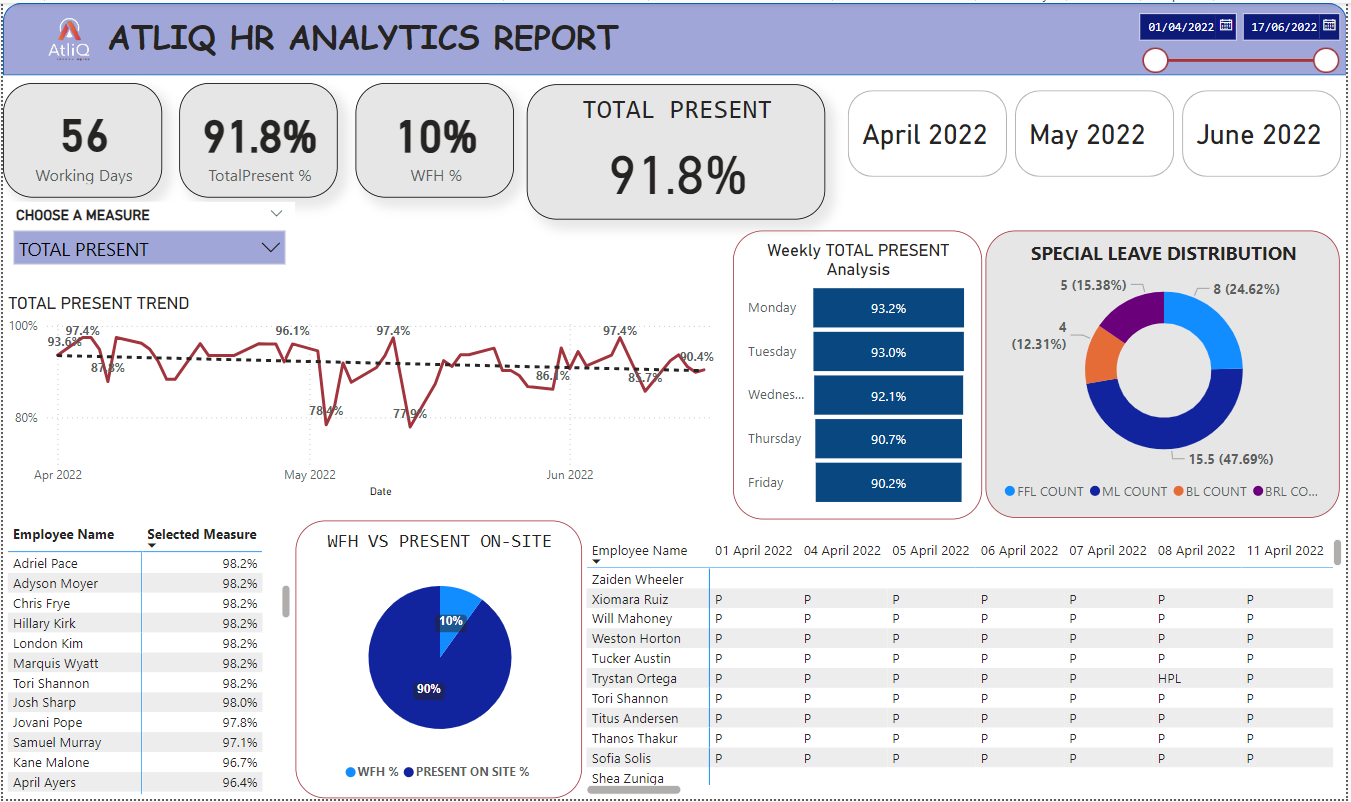

What the dashboard file says about the page in this screenshot:
{"tool":"powerbi","page":{"name":"Page 1","canvas":[1350,800],"ordinal":0},"visuals":[{"type":"card","fields":{"Values":["Final Data.Present %"]},"box":[177.1,80.9,159.5,115.6],"z":0},{"type":"advancedSlicerVisual","fields":{"Values":["Final Data.MONTH"]},"box":[844.2,82.9,506.3,98],"z":1000},{"type":"pivotTable","fields":{"Rows":["Final Data.Employee Name"],"Values":["Final Data.SelectedItem"]},"box":[0,517.6,294,282.7],"z":2000},{"type":"card","fields":{"Values":["Final Data.Working Days"]},"box":[0,80.9,160,115],"z":3000},{"type":"donutChart","title":"SPECIAL LEAVE DISTRIBUTION","fields":{"Y":["Final Data.FFL COUNT","Final Data.ML COUNT","Final Data.BL COUNT","Final Data.BRL COUNT"]},"box":[987.3,229.1,356.4,289.1],"z":4000},{"type":"pivotTable","fields":{"Rows":["Final Data.Employee Name"],"Values":["Final Data.Value"],"Columns":["Final Data.Date"]},"box":[581.7,533.9,768.8,266.3],"z":5000},{"type":"card","fields":{"Values":["Final Data.WFH %"]},"box":[354.3,80.9,159.5,115.6],"z":6000},{"type":"pieChart","title":"WFH VS PRESENT ON-SITE","fields":{"Y":["Final Data.WFH %","Final Data.PRESENT ON SITE %"]},"box":[293.8,519.6,288,279.3],"z":7000},{"type":"shape","box":[0,0,1350.5,72.9],"z":7500},{"type":"slicer","fields":{"Values":["Independent Table.Measures"]},"box":[0,199.7,294,71.6],"z":8000},{"type":"lineChart","fields":{"Y":["Final Data.SelectedItem"],"Category":["Final Data.Date"]},"box":[0,294,733.7,211.1],"z":9000},{"type":"funnel","fields":{"Y":["Final Data.Selected Measure"],"Category":["Final Data.DAY OF WEEK"]},"box":[733.8,229.2,250,290],"z":10000},{"type":"textbox","box":[94.2,6.3,535.2,57.8],"z":11000},{"type":"card","fields":{"Values":["Final Data.Selected Measure"]},"box":[526.4,82.2,300.3,135.7],"z":12000},{"type":"slicer","fields":{"Values":["Final Data.Date"]},"box":[1129.4,0,221.1,71.6],"z":13000},{"type":"image","box":[30.5,0.5,72.9,72.9],"z":15000}]}

Visuals, with their boxes in screenshot pixels (x1, y1, x2, y2), scaled from the page's 1350x800 canvas onto the 1351x802 screenshot:
card - Final Data.Present %: region(177, 81, 337, 197)
advancedSlicerVisual - Final Data.MONTH: region(845, 83, 1350, 181)
pivotTable - Final Data.Employee Name x Final Data.SelectedItem: region(0, 519, 294, 801)
card - Final Data.Working Days: region(0, 81, 160, 196)
"SPECIAL LEAVE DISTRIBUTION" donutChart: region(988, 230, 1345, 519)
pivotTable - Final Data.Employee Name x Final Data.Value: region(582, 535, 1350, 801)
card - Final Data.WFH %: region(355, 81, 514, 197)
"WFH VS PRESENT ON-SITE" pieChart: region(294, 521, 582, 801)
shape: region(0, 0, 1350, 73)
slicer - Independent Table.Measures: region(0, 200, 294, 272)
lineChart - Final Data.SelectedItem x Final Data.Date: region(0, 295, 734, 506)
funnel - Final Data.Selected Measure x Final Data.DAY OF WEEK: region(734, 230, 985, 520)
textbox: region(94, 6, 630, 64)
card - Final Data.Selected Measure: region(527, 82, 827, 218)
slicer - Final Data.Date: region(1130, 0, 1350, 72)
image: region(31, 1, 103, 74)
